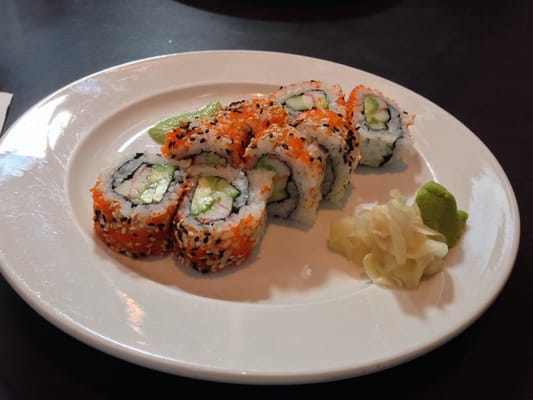curry: (4, 1, 529, 395)
